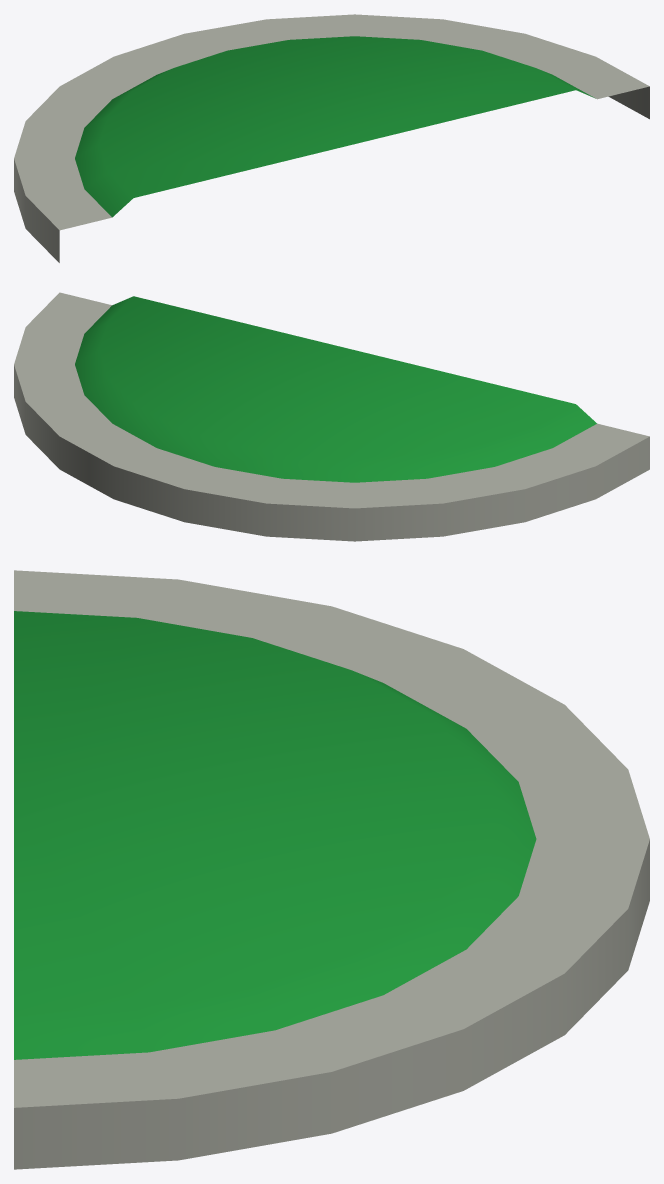
Rendered from RoadMid_3_A.fbx.
The picture shows the model from 3 angles, top to bottom: view 1: azimuth 30°, elevation 25°; view 2: azimuth 150°, elevation 25°; view 3: azimuth 270°, elevation 25°; orthographic projection. The views are drawn at different scales.
Parts seen in each view (by area): view 1: RoadMid_3_A; view 2: RoadMid_3_A; view 3: RoadMid_3_A.
Boxes of the visible parts, x1,y1,x2,y2 form: RoadMid_3_A: (14, 14, 649, 262); RoadMid_3_A: (14, 292, 649, 541); RoadMid_3_A: (14, 570, 649, 1169).
Size of the model in its own units: 299 by 22.96 by 150.
